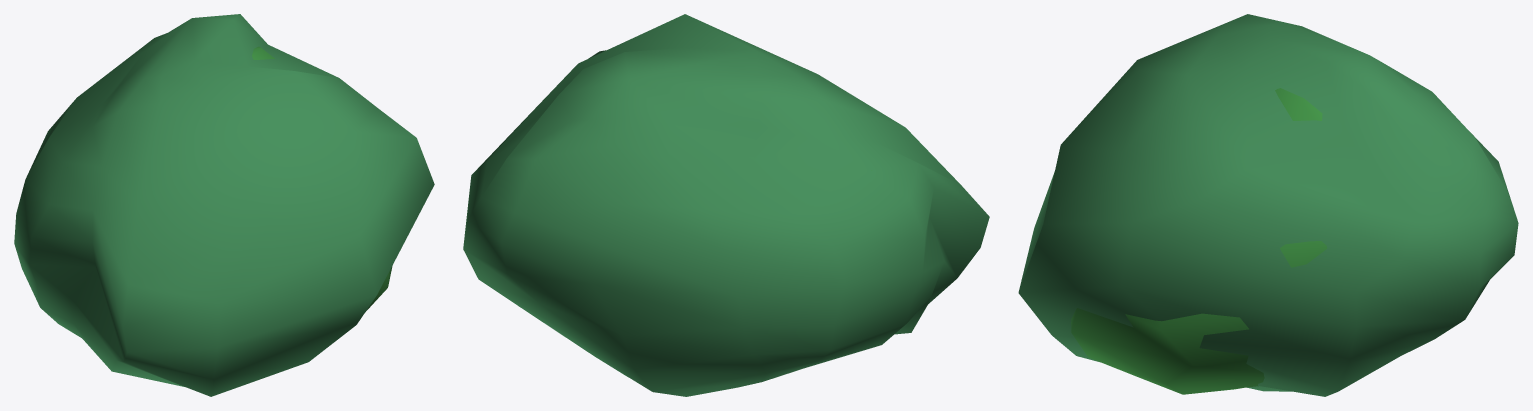
Rendered from bush.fbx.
3 renders of one model, left to right at view 1: azimuth 30°, elevation 25°; view 2: azimuth 150°, elevation 25°; view 3: azimuth 270°, elevation 25°, orthographic. The views are drawn at different scales.
Parts seen in each view (by area): view 1: bush_2, bush; view 2: bush_2; view 3: bush_2, bush.
Part boxes in pixels (box(x1,y1,x2,y2)): bush_2: box(14, 14, 434, 396); bush: box(252, 46, 392, 310); bush_2: box(463, 14, 989, 396); bush_2: box(1018, 14, 1518, 396); bush: box(1071, 88, 1327, 394).
Size of the model in its own units: 141 by 106 by 145.
Materials: 1 (1 with a texture image).
